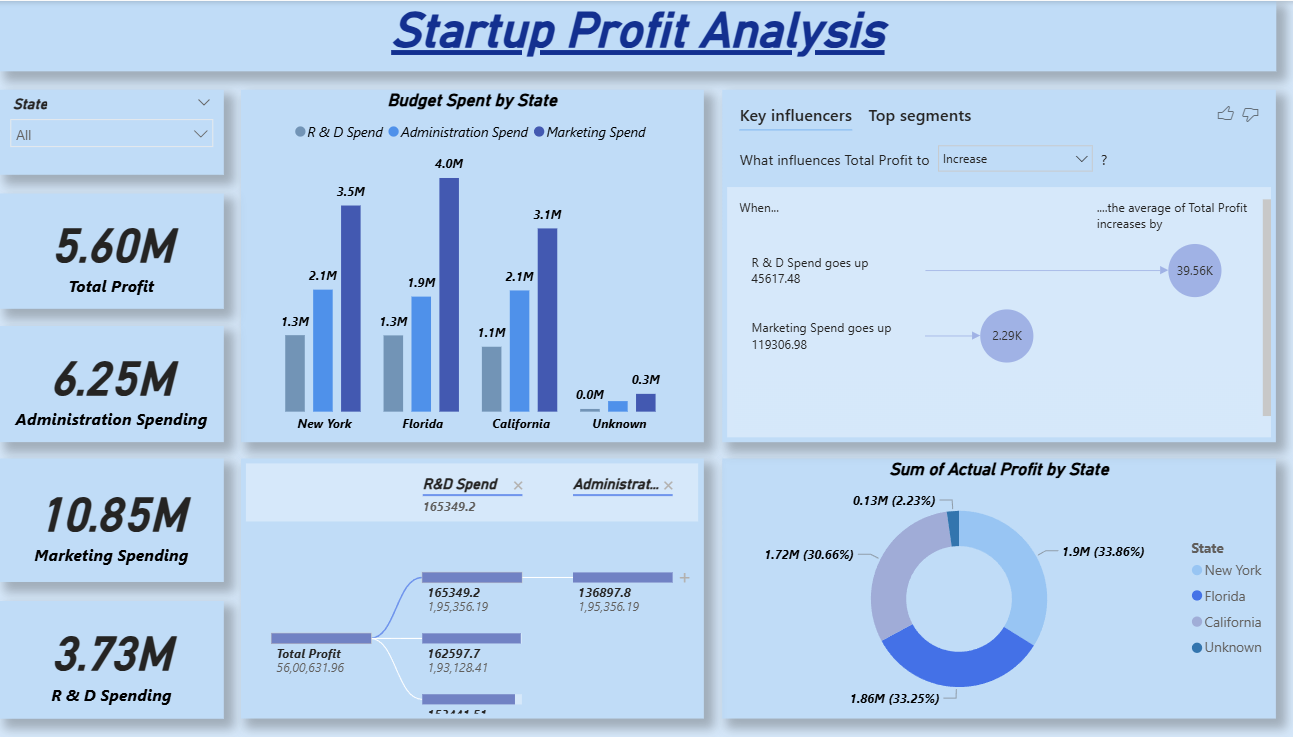

The dashboard page shown, as its layout file describes it:
{"tool":"powerbi","page":{"name":"Page 1","canvas":[1280,720],"ordinal":0},"visuals":[{"type":"textbox","title":"Startup Profit Analysis","box":[13.5,0,1248.5,68.5],"z":0},{"type":"slicer","fields":{"Values":["startup 2.State"]},"box":[13.5,86.8,218.9,83.2],"z":1000},{"type":"donutChart","fields":{"Category":["startup 2.State"],"Y":["Sum(startup 2.Actual Profit)"]},"box":[720.2,447.6,541.7,254.3],"z":2000},{"type":"clusteredColumnChart","title":"Budget Spent by State","fields":{"Category":["startup 2.State"],"Y":["Sum(startup 2.RD_Spend)","Sum(startup 2.Administration)","Sum(startup 2.Marketing_Spend)"]},"box":[249.5,86.8,452.4,344.8],"z":3000},{"type":"card","fields":{"Values":["Sum(startup 2.Actual Profit)"]},"box":[13.5,188.3,218.9,112.5],"z":4000},{"type":"card","fields":{"Values":["Sum(startup 2.Administration)"]},"box":[13.5,317.9,218.9,113.7],"z":5000},{"type":"card","fields":{"Values":["Sum(startup 2.Marketing_Spend)"]},"box":[13.5,447.6,218.9,121.1],"z":6000},{"type":"card","fields":{"Values":["Sum(startup 2.RD_Spend)"]},"box":[13.5,587,218.9,114.9],"z":7000},{"type":"keyDriversVisual","fields":{"Target":["Sum(startup 2.Actual Profit)"],"ExplainBy":["startup 2.RD_Spend","startup 2.Marketing_Spend","startup 2.Administration"]},"box":[720.2,86.8,541.7,344.8],"z":8000},{"type":"decompositionTreeVisual","fields":{"Analyze":["Sum(startup 2.Actual Profit)"],"ExplainBy":["startup 2.RD_Spend","startup 2.Administration","startup 2.Marketing_Spend"]},"box":[249.5,447.6,452.4,254.3],"z":9000}]}

Visuals, with their boxes in screenshot pixels (x1, y1, x2, y2), scaled from the page's 1280x720 canvas onto the 1293x737 screenshot:
"Startup Profit Analysis" textbox: (x1=14, y1=0, x2=1275, y2=70)
slicer - startup 2.State: (x1=14, y1=89, x2=235, y2=174)
donutChart - startup 2.State x Sum(startup 2.Actual Profit): (x1=728, y1=458, x2=1275, y2=718)
"Budget Spent by State" clusteredColumnChart: (x1=252, y1=89, x2=709, y2=442)
card - Sum(startup 2.Actual Profit): (x1=14, y1=193, x2=235, y2=308)
card - Sum(startup 2.Administration): (x1=14, y1=325, x2=235, y2=442)
card - Sum(startup 2.Marketing_Spend): (x1=14, y1=458, x2=235, y2=582)
card - Sum(startup 2.RD_Spend): (x1=14, y1=601, x2=235, y2=718)
keyDriversVisual - Sum(startup 2.Actual Profit) x startup 2.RD_Spend: (x1=728, y1=89, x2=1275, y2=442)
decompositionTreeVisual - Sum(startup 2.Actual Profit) x startup 2.RD_Spend: (x1=252, y1=458, x2=709, y2=718)
